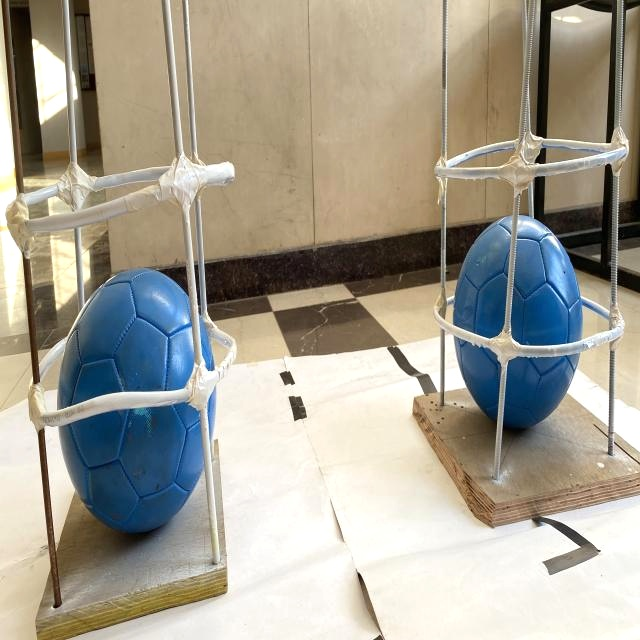blue_ball: (57, 263, 216, 518), (451, 214, 581, 426)
silo: (0, 0, 232, 606), (416, 0, 640, 498)
